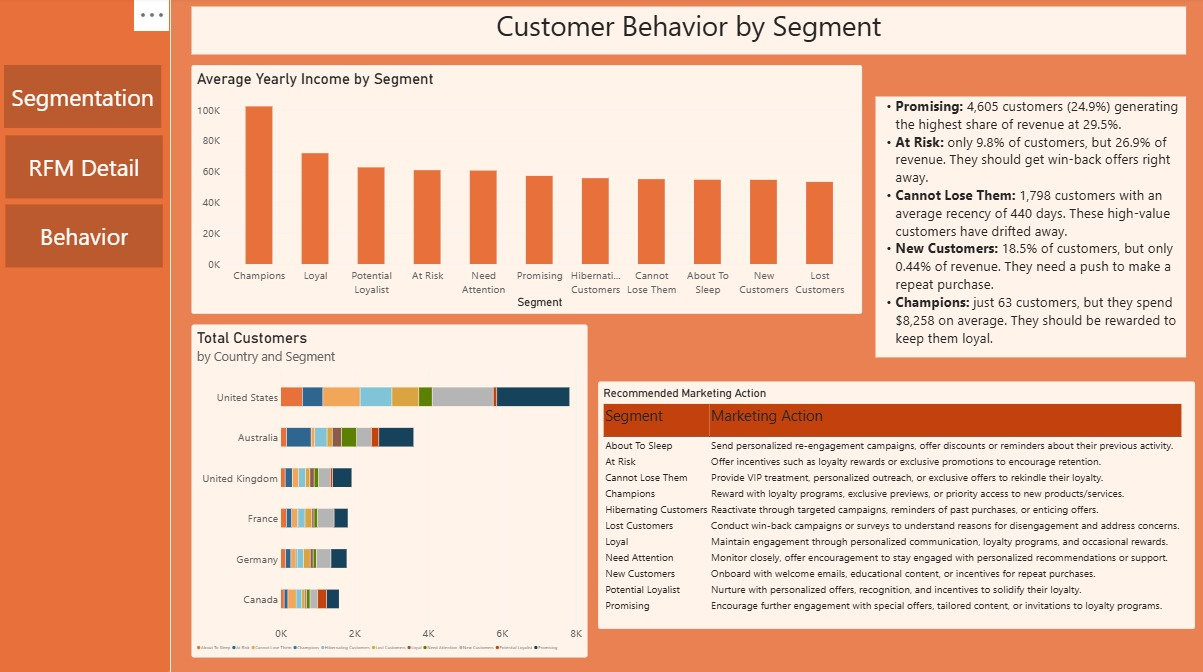

The dashboard page shown, as its layout file describes it:
{"tool":"powerbi","page":{"name":"Behavior","canvas":[3840,2160],"ordinal":2},"visuals":[{"type":"clusteredColumnChart","title":"Average of Yearly Income","fields":{"Category":["RFM.Segment"],"Y":["Avg(DimCustomer.YearlyIncome)"]},"box":[625.1,219.5,2133,792.1],"z":0},{"type":"barChart","fields":{"Category":["DimGeography.Country"],"Series":["RFM.Segment"],"Y":["RFM.Total Customers"]},"box":[625.1,1045,1259.8,1059.3],"z":1000},{"type":"tableEx","fields":{"Values":["RFM.Segment","RFM.Total Customers","RFM.Marketing Action"]},"box":[1918.3,1226.4,1899.2,696.7],"z":2000},{"type":"textbox","box":[2801.1,319.7,987.8,830.3],"z":3000},{"type":"shape","box":[0,0,560,2160],"z":4000},{"type":"actionButton","box":[30,220,500,200],"z":5000},{"type":"actionButton","box":[35,445,500,200],"z":6000},{"type":"actionButton","box":[35,665,500,200],"z":7000},{"type":"textbox","box":[625.1,33.4,3163.7,152.7],"z":8000}]}

Visuals, with their boxes on the page's 3840x2160 design canvas (x1, y1, x2, y2). These are canvas units, not pixel positions in the 1203x672 screenshot, which may show the page scaled, cropped or inside an application window:
"Average of Yearly Income" clusteredColumnChart: (625,220,2758,1012)
barChart - DimGeography.Country x RFM.Segment: (625,1045,1885,2104)
tableEx - RFM.Segment x RFM.Total Customers: (1918,1226,3818,1923)
textbox: (2801,320,3789,1150)
shape: (0,0,560,2160)
actionButton: (30,220,530,420)
actionButton: (35,445,535,645)
actionButton: (35,665,535,865)
textbox: (625,33,3789,186)
